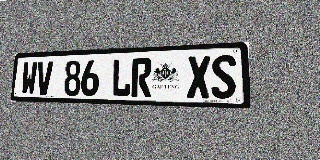6: (81, 59, 100, 96)
8: (64, 60, 82, 96)
L: (111, 58, 132, 97)
R: (131, 58, 152, 97)
S: (211, 55, 237, 99)
V: (36, 61, 53, 95)
W: (21, 62, 38, 95)
X: (187, 56, 211, 98)
